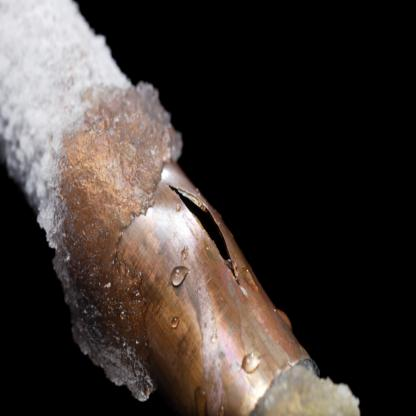burst: (153, 172, 275, 300)
